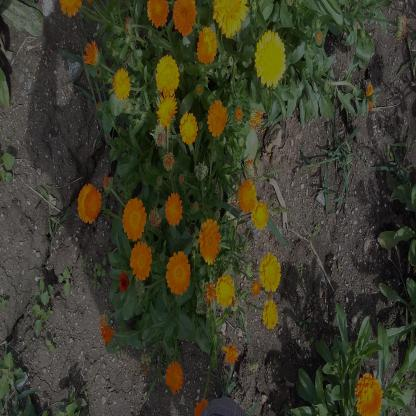marigold: (256, 31, 284, 87), (214, 0, 247, 41), (356, 374, 382, 415), (166, 250, 191, 290), (76, 183, 100, 223), (123, 197, 146, 237), (199, 219, 219, 264), (156, 57, 181, 93), (157, 93, 178, 134), (130, 242, 153, 279), (173, 0, 196, 35), (196, 26, 216, 65), (260, 254, 281, 290), (208, 102, 227, 138), (147, 0, 168, 29), (179, 112, 198, 144), (165, 194, 184, 225), (239, 178, 255, 214), (217, 278, 234, 305), (263, 300, 278, 328), (166, 363, 182, 389), (115, 70, 129, 99), (253, 204, 267, 226)
